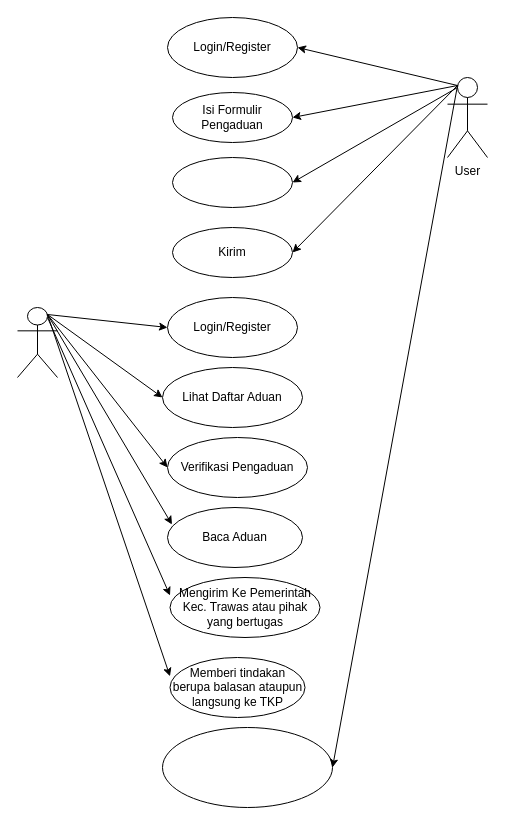
Some shapes in this 505 by 825 pixel diagram are drawn without their labels. The shapes that lost their labels are listed below. From the top down, each one's box as (x1, y1, x2, y2) in pixels, then its label:
(172, 156, 292, 208): Isi Data Diri di Formulir Pengaduan
(16, 306, 58, 378): Admin
(162, 726, 332, 808): Menerima Jawaban dari pihak pemerintah yang disalurkan oleh admin
